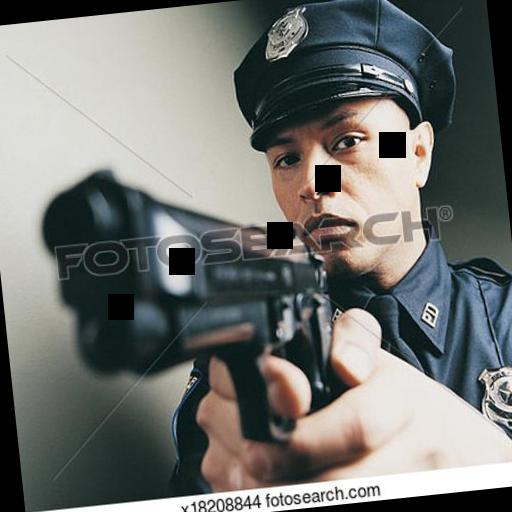Handgun: (36, 143, 350, 467)
